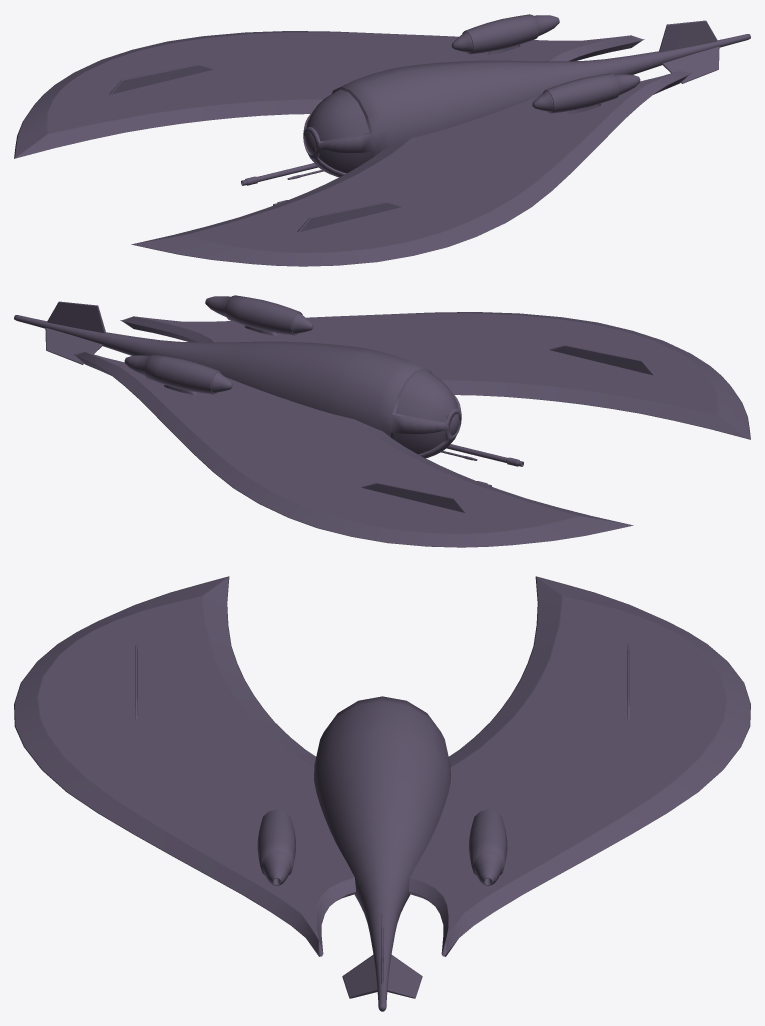
File: spaceship.obj
3 renders of one model, top to bottom at view 1: azimuth 30°, elevation 25°; view 2: azimuth 150°, elevation 25°; view 3: azimuth 270°, elevation 25°, orthographic. The views are drawn at different scales.
Parts seen in each view (by area): view 1: spaceship_axe_ii; view 2: spaceship_axe_ii; view 3: spaceship_axe_ii.
Boxes of the visible parts, left/top/right/bottom form: spaceship_axe_ii: left=14, top=14, right=750, bottom=266; spaceship_axe_ii: left=14, top=295, right=750, bottom=547; spaceship_axe_ii: left=14, top=576, right=750, bottom=1011.
Size of the model in its own units: 22.23 by 3.08 by 15.99.
2 materials, 2 textured.
